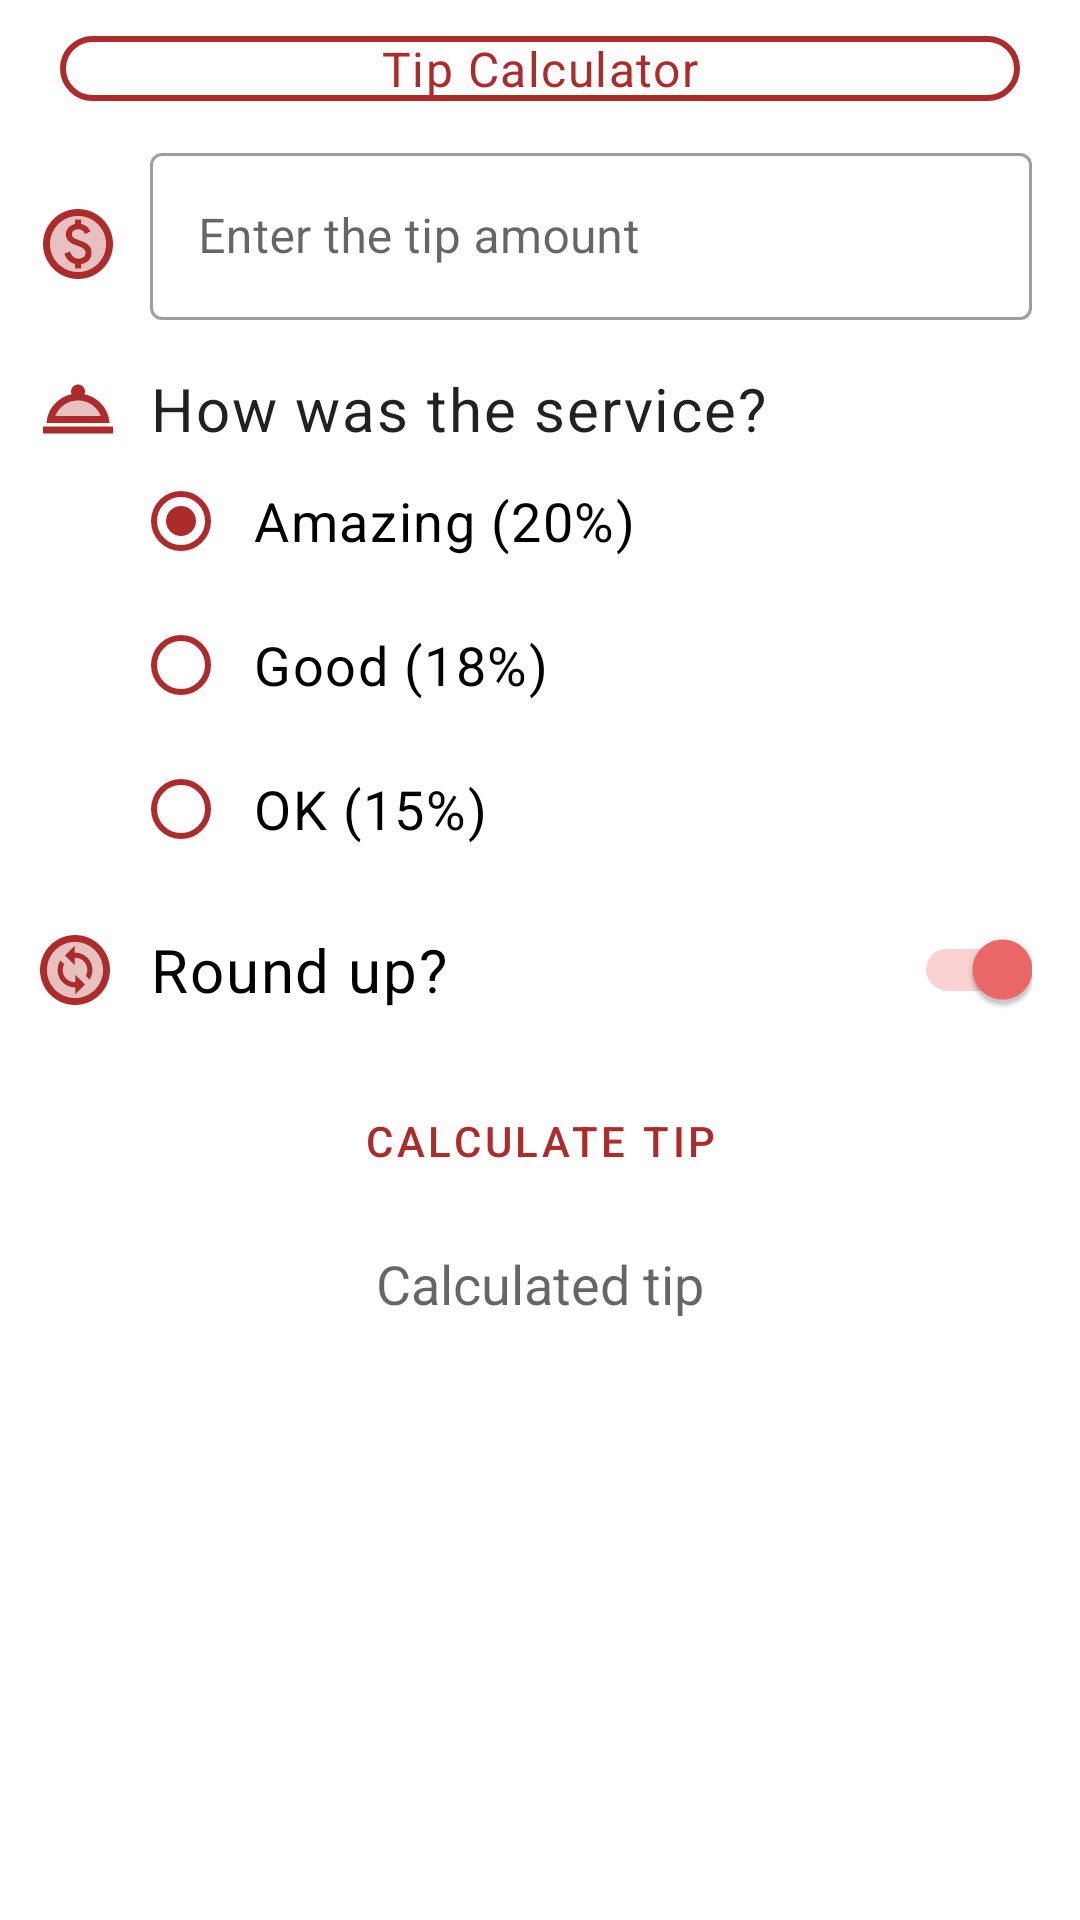

Screen size 1080×1920. Icon name, then its center in pixels as (x=x, y=y):
change circle: (x=75, y=970)
paid: (x=78, y=244)
room service: (x=78, y=409)
